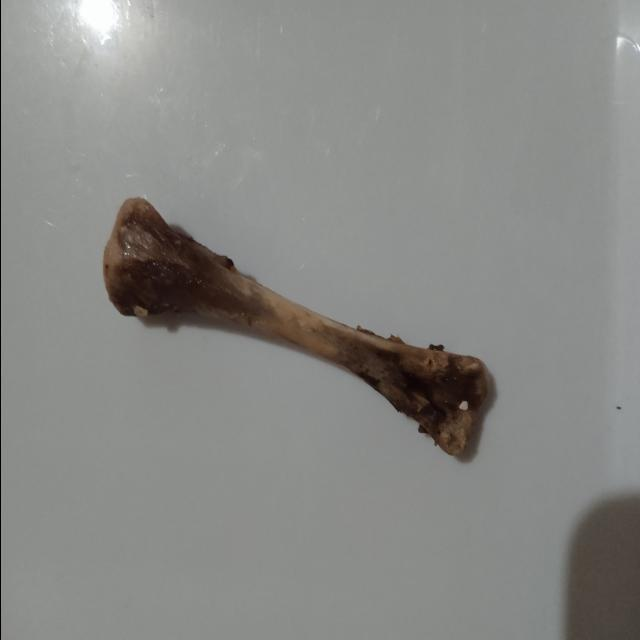bone: (93, 188, 504, 468)
